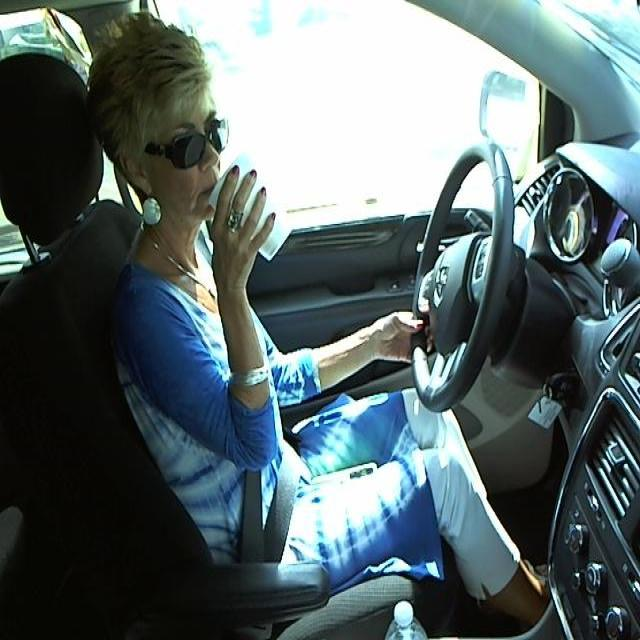Seatbelt: (197, 152, 292, 256)
